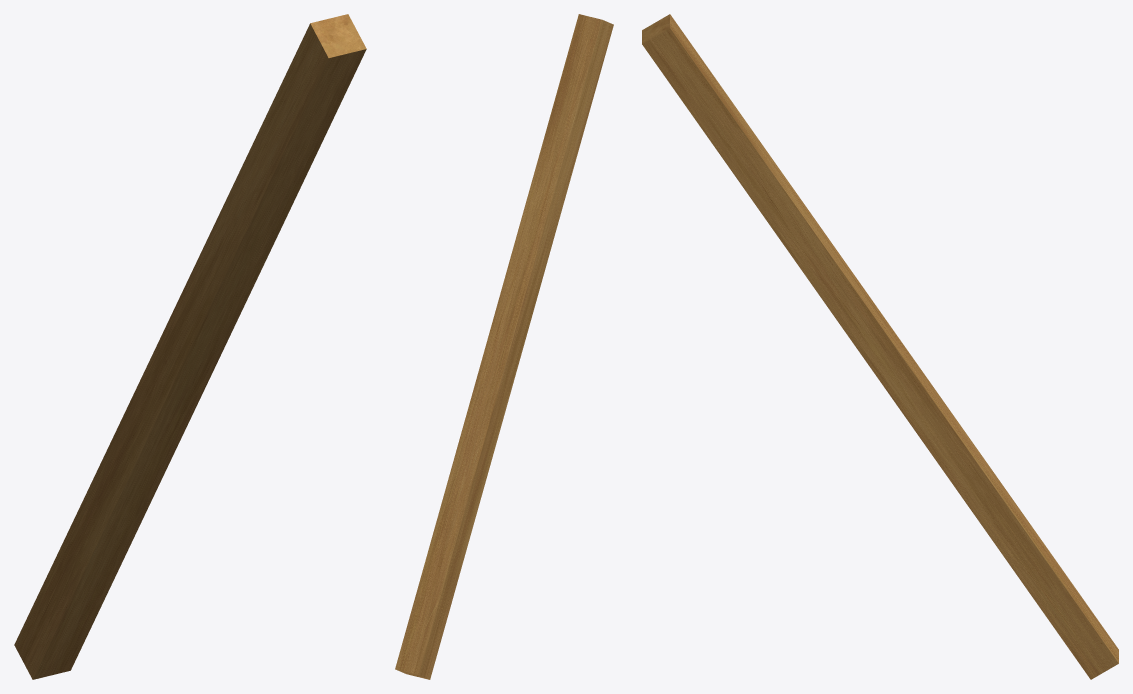
File: VenusBarre.fbx
3 renders of one model, left to right at view 1: azimuth 30°, elevation 25°; view 2: azimuth 150°, elevation 25°; view 3: azimuth 270°, elevation 25°, orthographic. The views are drawn at different scales.
Parts seen in each view (by area): view 1: Barre; view 2: Barre; view 3: Barre.
Part boxes in pixels (x1,y1,x2,y2): Barre: [14, 14, 366, 679]; Barre: [395, 14, 613, 679]; Barre: [642, 14, 1118, 679].
Size of the model in its own units: 8 by 173 by 115.
Materials: 1 (1 with a texture image).
